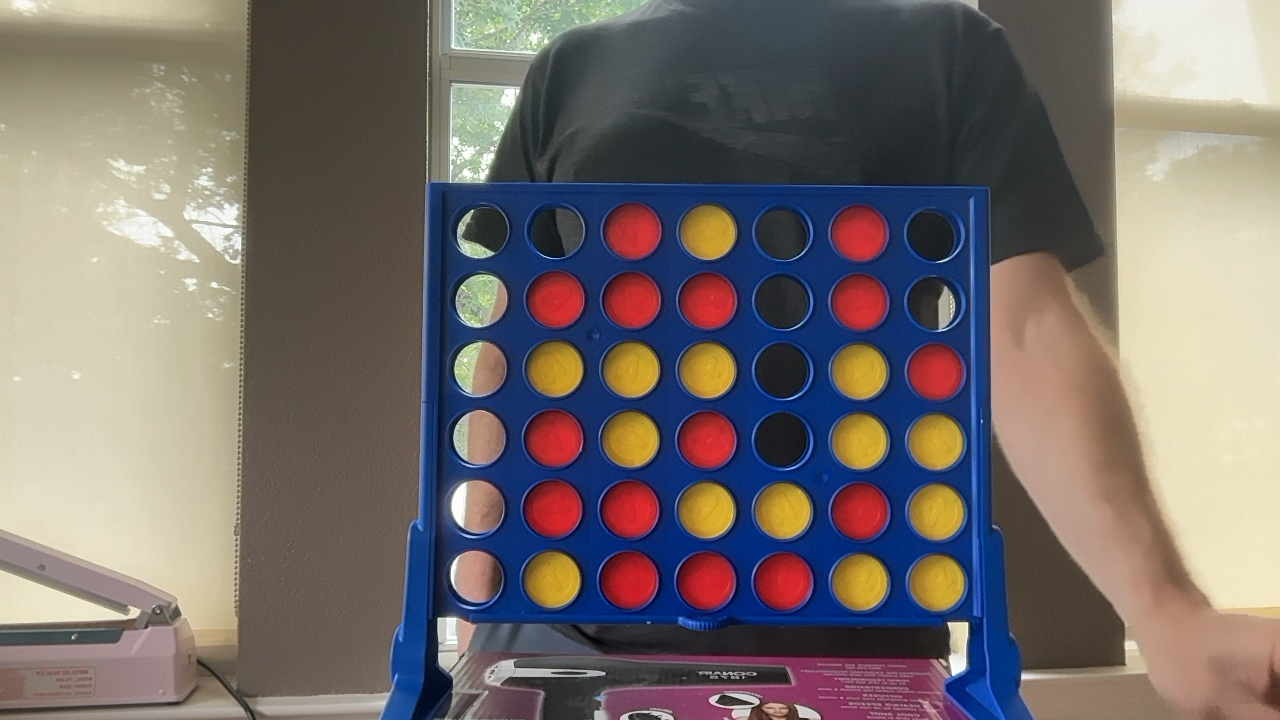red piece: (676, 552, 735, 611), (600, 480, 659, 539), (599, 551, 658, 609), (754, 553, 813, 611), (677, 411, 736, 469), (523, 480, 582, 538), (525, 410, 583, 468), (678, 273, 736, 330), (907, 343, 965, 400), (526, 271, 584, 328), (831, 483, 889, 540), (603, 272, 660, 329), (831, 274, 888, 330), (604, 203, 661, 259), (831, 206, 888, 261)
yellow piece: (523, 551, 581, 609), (677, 481, 735, 539), (601, 410, 659, 468), (526, 340, 584, 397), (678, 342, 736, 399), (831, 343, 888, 400), (831, 554, 888, 611), (755, 482, 812, 539), (908, 484, 965, 541), (908, 555, 965, 612), (831, 413, 888, 469), (602, 342, 659, 398), (908, 413, 964, 470), (679, 205, 736, 259)
